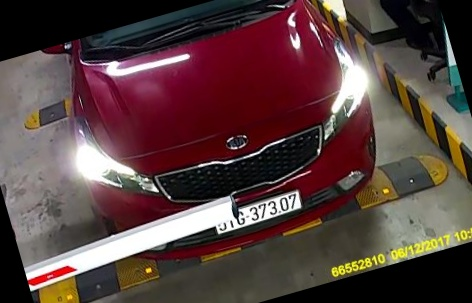plate: (215, 192, 303, 237)
